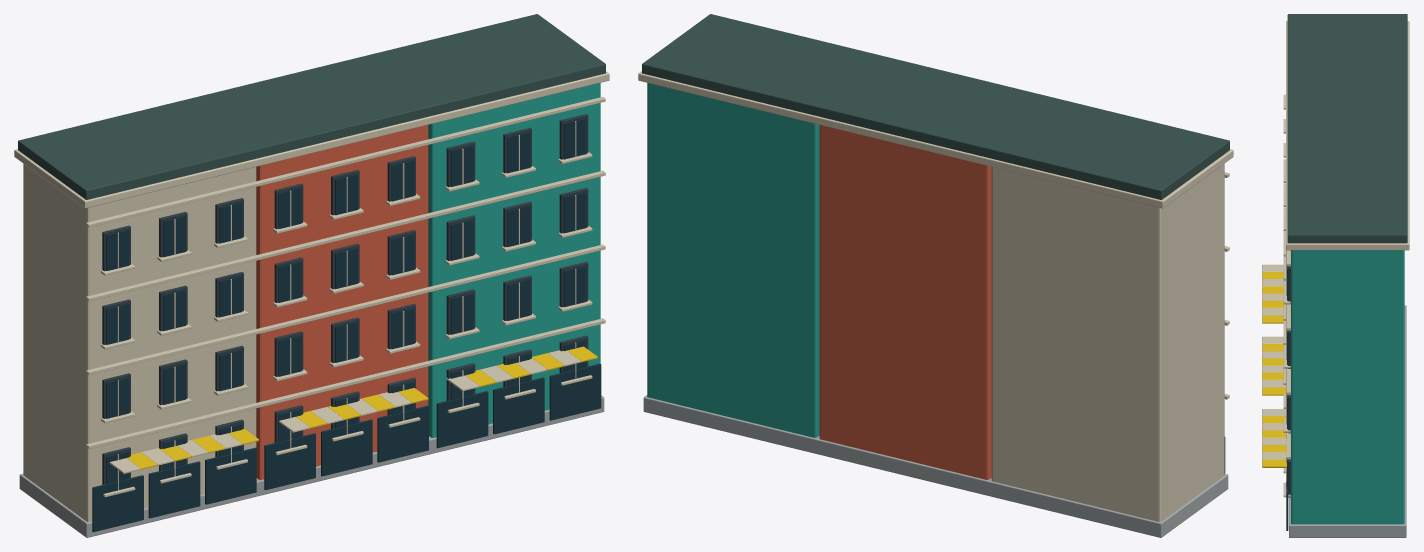
File: altbau-row.glb
The picture shows the model from 3 angles, left to right: view 1: azimuth 30°, elevation 25°; view 2: azimuth 150°, elevation 25°; view 3: azimuth 270°, elevation 25°; orthographic projection. The views are drawn at different scales.
Visible parts, largest first — view 1: DC_Mesh_DC_Ivory, DC_Mesh_DC_BlueGlass, DC_Mesh_DC_Roof, DC_Mesh_DC_Teal, DC_Mesh_DC_Coral, DC_Mesh_DC_Steel, DC_Mesh_DC_Concrete, DC_Mesh_DC_Yellow; view 2: DC_Mesh_DC_Ivory, DC_Mesh_DC_Coral, DC_Mesh_DC_Teal, DC_Mesh_DC_Roof, DC_Mesh_DC_Concrete; view 3: DC_Mesh_DC_Teal, DC_Mesh_DC_Roof, DC_Mesh_DC_Ivory, DC_Mesh_DC_Concrete, DC_Mesh_DC_Yellow, DC_Mesh_DC_Steel, DC_Mesh_DC_BlueGlass.
Boxes of the visible parts, x1,y1,x2,y2 form: DC_Mesh_DC_Ivory: [14, 71, 609, 521]; DC_Mesh_DC_BlueGlass: [92, 118, 601, 532]; DC_Mesh_DC_Roof: [18, 14, 605, 199]; DC_Mesh_DC_Teal: [428, 83, 600, 437]; DC_Mesh_DC_Coral: [256, 125, 428, 479]; DC_Mesh_DC_Steel: [102, 114, 588, 484]; DC_Mesh_DC_Concrete: [19, 395, 604, 537]; DC_Mesh_DC_Yellow: [127, 346, 597, 469]; DC_Mesh_DC_Ivory: [638, 71, 1233, 521]; DC_Mesh_DC_Coral: [819, 125, 991, 479]; DC_Mesh_DC_Teal: [647, 83, 819, 437]; DC_Mesh_DC_Roof: [642, 14, 1229, 199]; DC_Mesh_DC_Concrete: [643, 395, 1228, 537]; DC_Mesh_DC_Teal: [1291, 250, 1404, 524]; DC_Mesh_DC_Roof: [1287, 14, 1407, 243]; DC_Mesh_DC_Ivory: [1262, 21, 1409, 497]; DC_Mesh_DC_Concrete: [1289, 305, 1406, 537]; DC_Mesh_DC_Yellow: [1262, 272, 1286, 467]; DC_Mesh_DC_Steel: [1288, 266, 1290, 497]; DC_Mesh_DC_BlueGlass: [1286, 266, 1288, 530].
Size of the model in its own units: 18.6 by 11.79 by 5.18.
